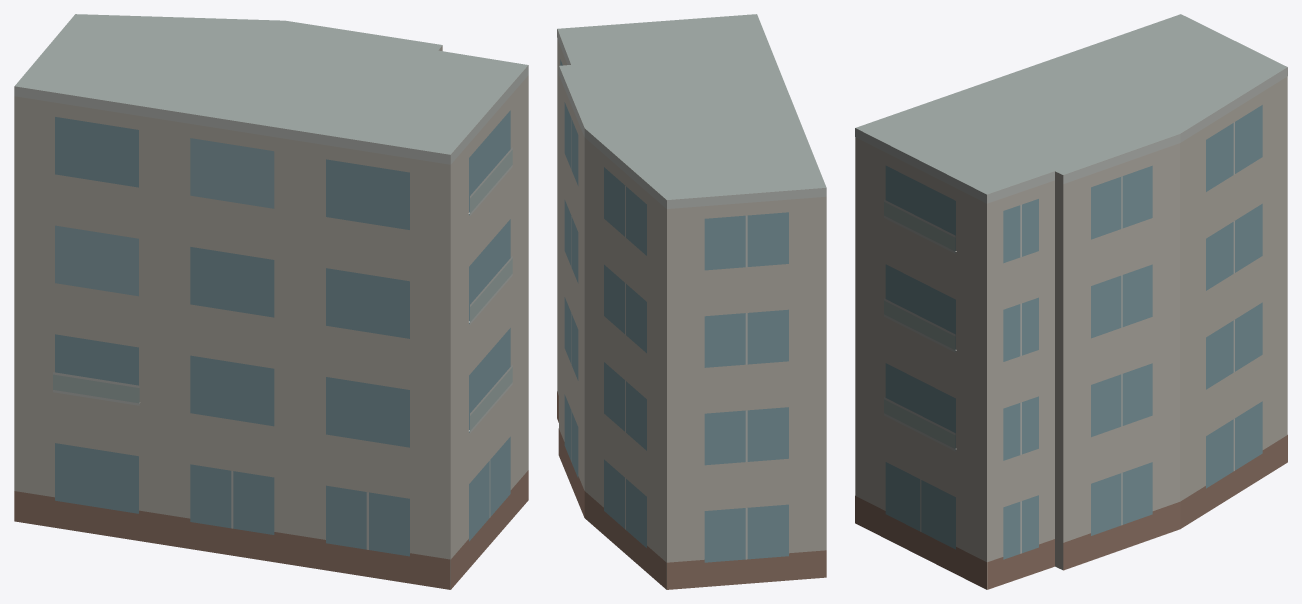
The model's file is survey-upis-32912660.glb.
The picture shows the model from 3 angles, left to right: view 1: azimuth 30°, elevation 25°; view 2: azimuth 150°, elevation 25°; view 3: azimuth 270°, elevation 25°; orthographic projection. The views are drawn at different scales.
Parts seen in each view (by area): view 1: survey-upis-32912660.tmp; view 2: survey-upis-32912660.tmp; view 3: survey-upis-32912660.tmp.
Boxes of the visible parts, bbox=[...] form: survey-upis-32912660.tmp: bbox=[14, 14, 528, 589]; survey-upis-32912660.tmp: bbox=[557, 14, 826, 589]; survey-upis-32912660.tmp: bbox=[855, 14, 1287, 589].
Size of the model in its own units: 10.4 by 10.6 by 10.52.
